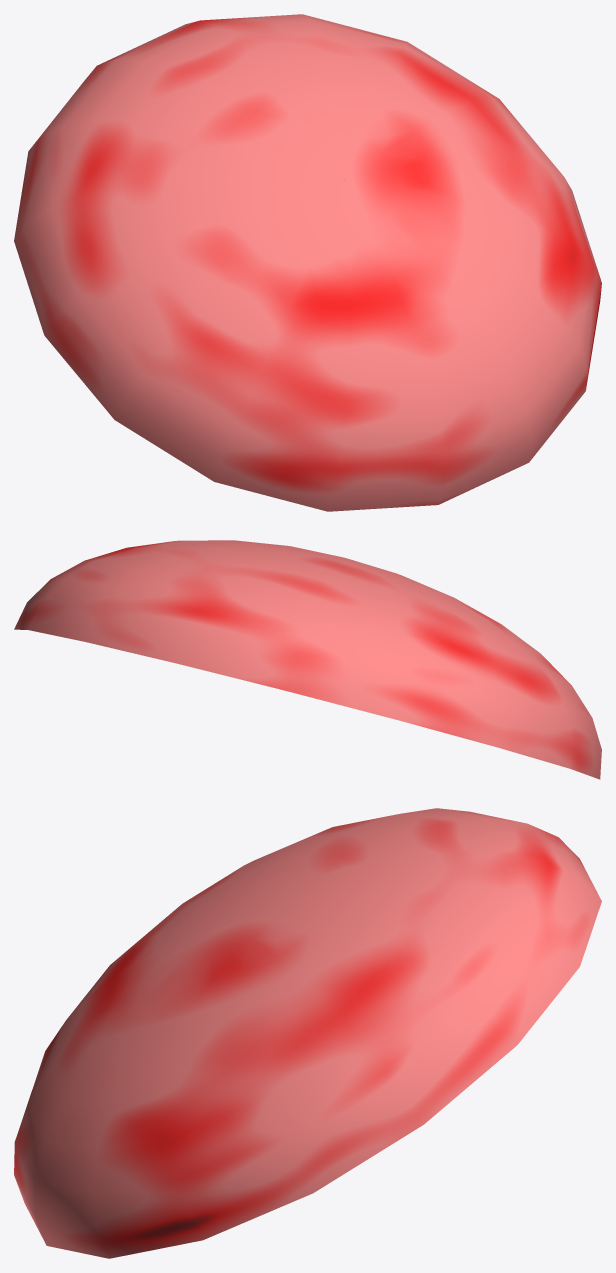
The model's file is DHD_Button.glb.
3 views of the same model, one above another, from view 1: azimuth 30°, elevation 25°; view 2: azimuth 150°, elevation 25°; view 3: azimuth 270°, elevation 25° (orthographic). The views are drawn at different scales.
Visible parts, largest first — view 1: Button; view 2: Button; view 3: Button.
Boxes of the visible parts, box(x1,y1,x2,y2) form: Button: box(14, 14, 601, 511); Button: box(14, 540, 601, 779); Button: box(14, 808, 601, 1258).
Size of the model in its own units: 0.4 by 0.2319 by 0.3528.
1 material, 1 textured.
